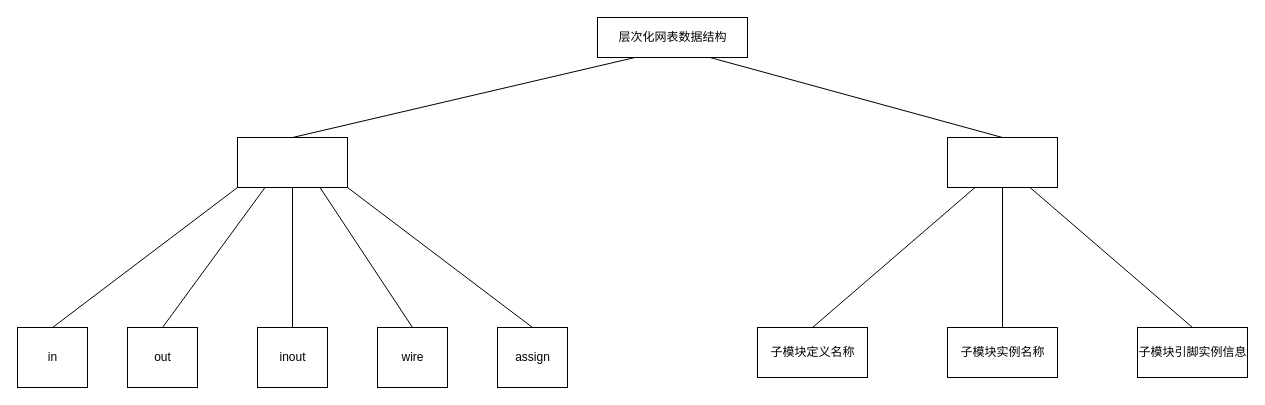
This 1265x405 diagram has some shape labels left out. Here are the shapes that lost their labels. From the top down, the centre of each, then its label:
At (292,162): "网表引脚定义信息".
At (1002,162): "子模块实例模块信息".
